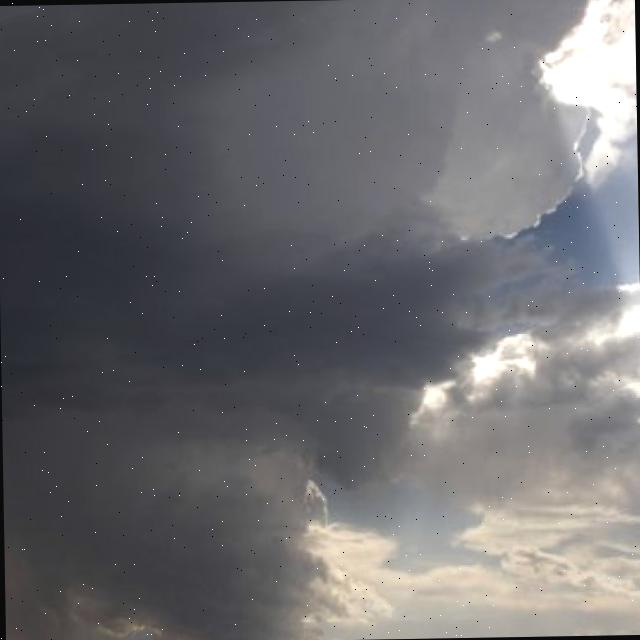Cb: (1, 1, 640, 600)
